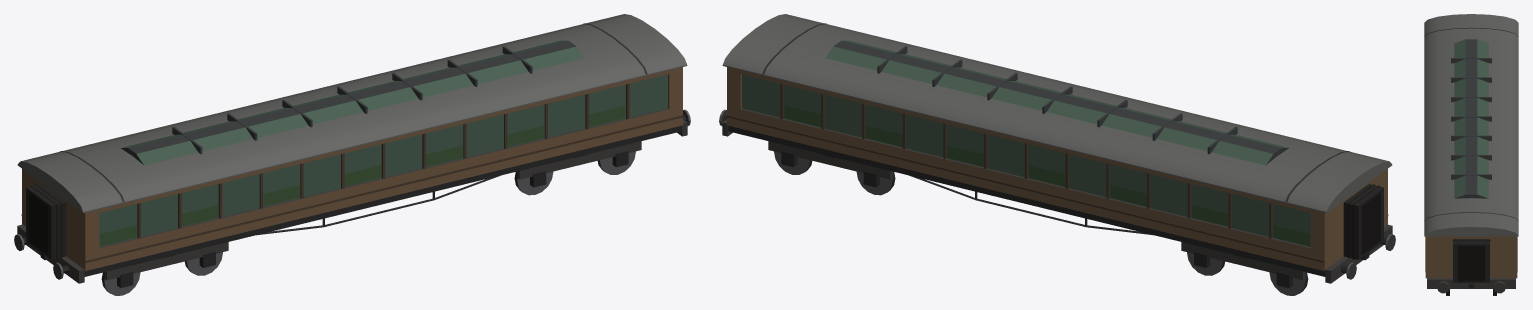
Rendered from coach_glass.glb.
3 views of the same model, side by side, from view 1: azimuth 30°, elevation 25°; view 2: azimuth 150°, elevation 25°; view 3: azimuth 270°, elevation 25° (orthographic). The views are drawn at different scales.
Parts seen in each view (by area): view 1: coach_glass_LOD0; view 2: coach_glass_LOD0; view 3: coach_glass_LOD0.
Boxes of the visible parts, <box> form: coach_glass_LOD0: <box>14,14,690,295</box>; coach_glass_LOD0: <box>719,14,1395,295</box>; coach_glass_LOD0: <box>1424,14,1518,295</box>.
Size of what is drawn, in the model's own units: 16 by 3.05 by 2.88.
1 material, 1 textured.
